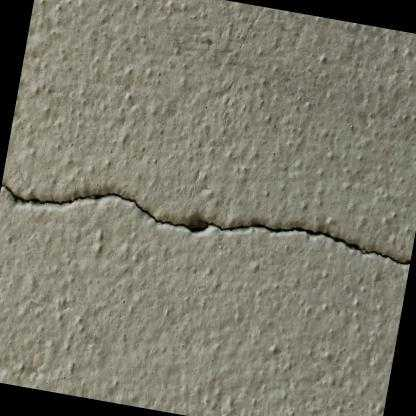crack: (0, 182, 410, 267)
